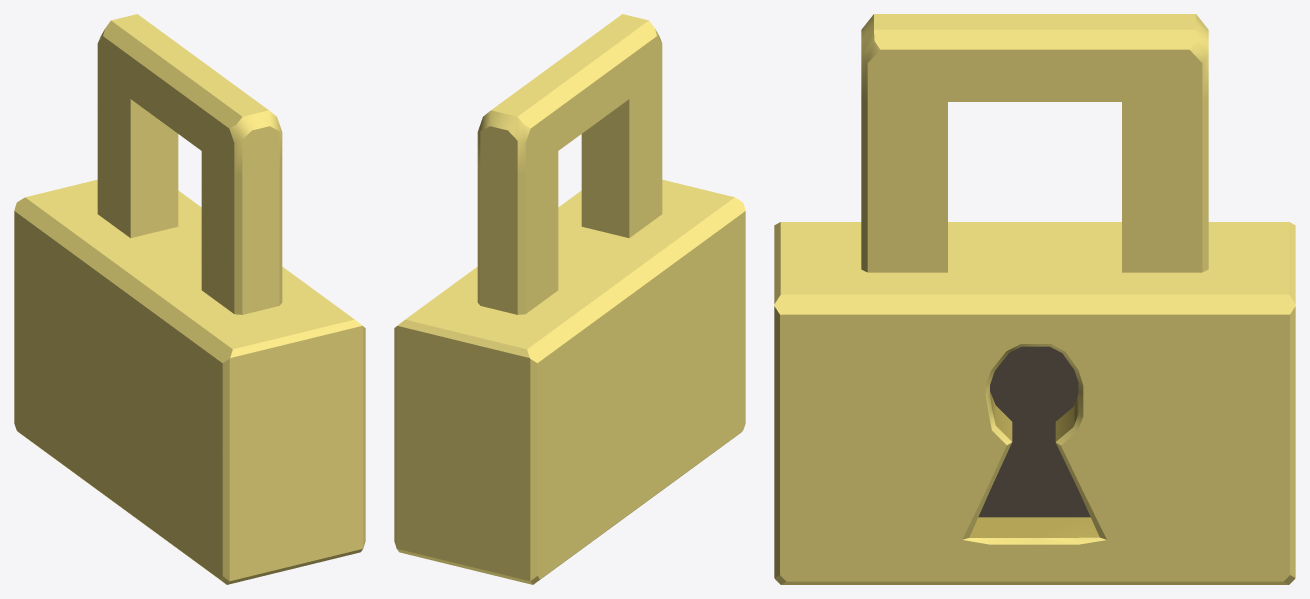
The model's file is zyoumae.fbx.
3 views of the same model, side by side, from view 1: azimuth 30°, elevation 25°; view 2: azimuth 150°, elevation 25°; view 3: azimuth 270°, elevation 25° (orthographic). The views are drawn at different scales.
Parts seen in each view (by area): view 1: pCube1; view 2: pCube1; view 3: pCube1.
Part boxes in pixels (<box>): pCube1: <box>14,14,365,584</box>; pCube1: <box>394,14,745,584</box>; pCube1: <box>774,14,1295,584</box>.
Size of the model in its own units: 0.8473 by 2.41 by 2.18.
